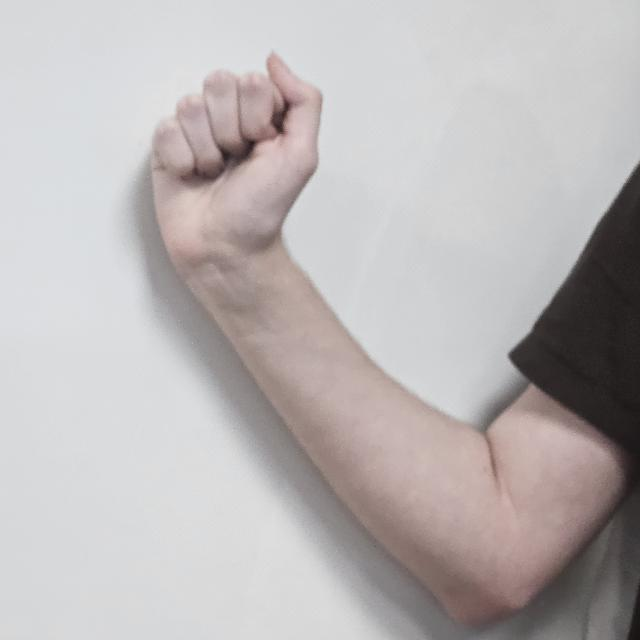Quadro: (144, 53, 356, 293)
